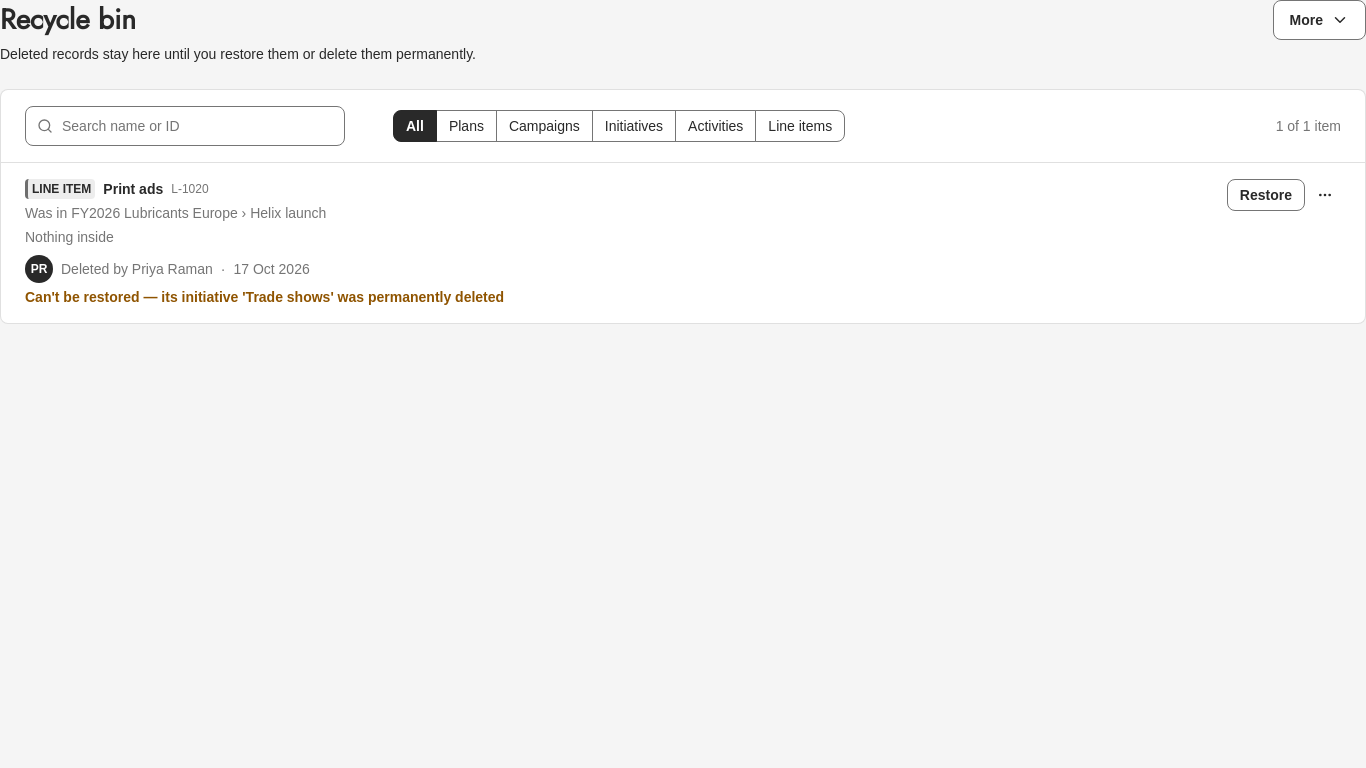
Test: RecycleBinPage › opens Delete permanently from a restore that cannot happen (FR-024)
Click the button with aria-label "Restore line item 'Print ads'" at [1266, 195], box [1227,179,1305,211]
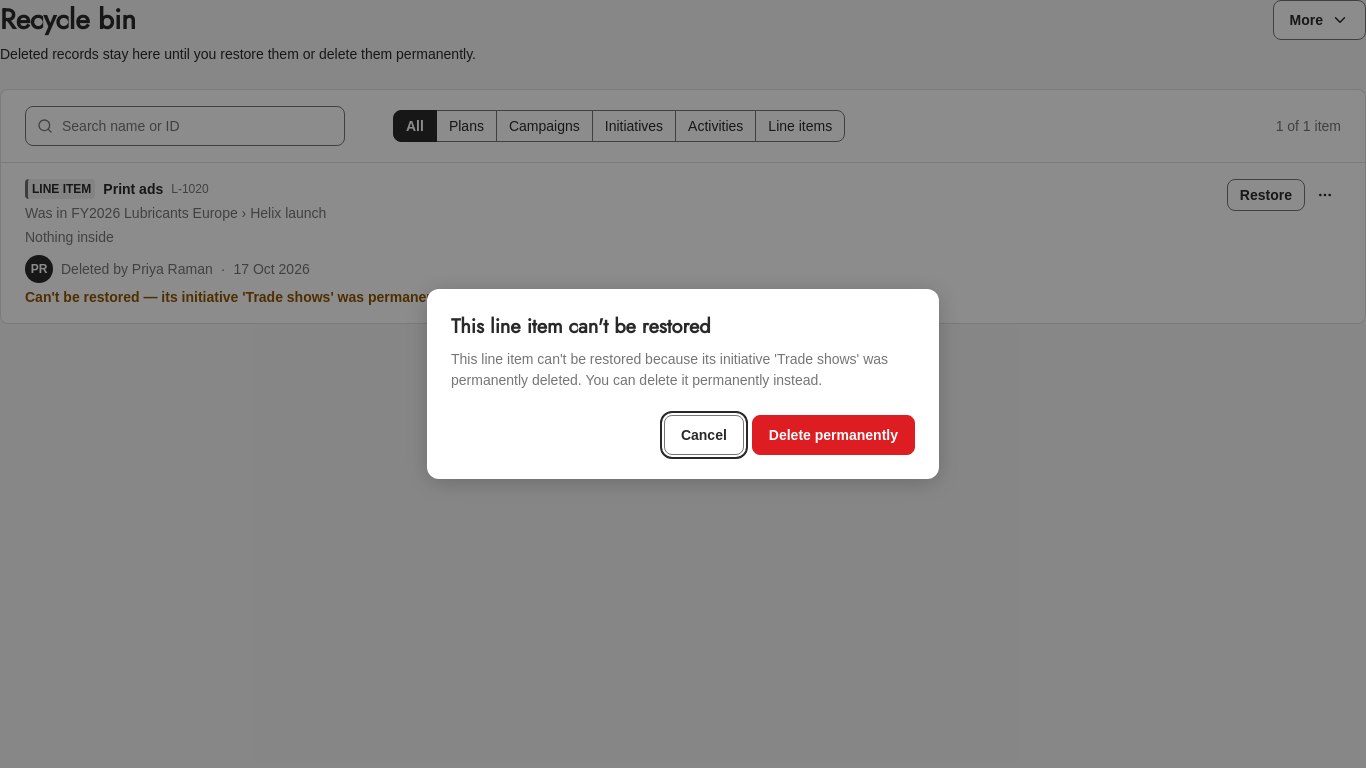
Click the button "Delete permanently" at [833, 435], box [752,415,915,455]
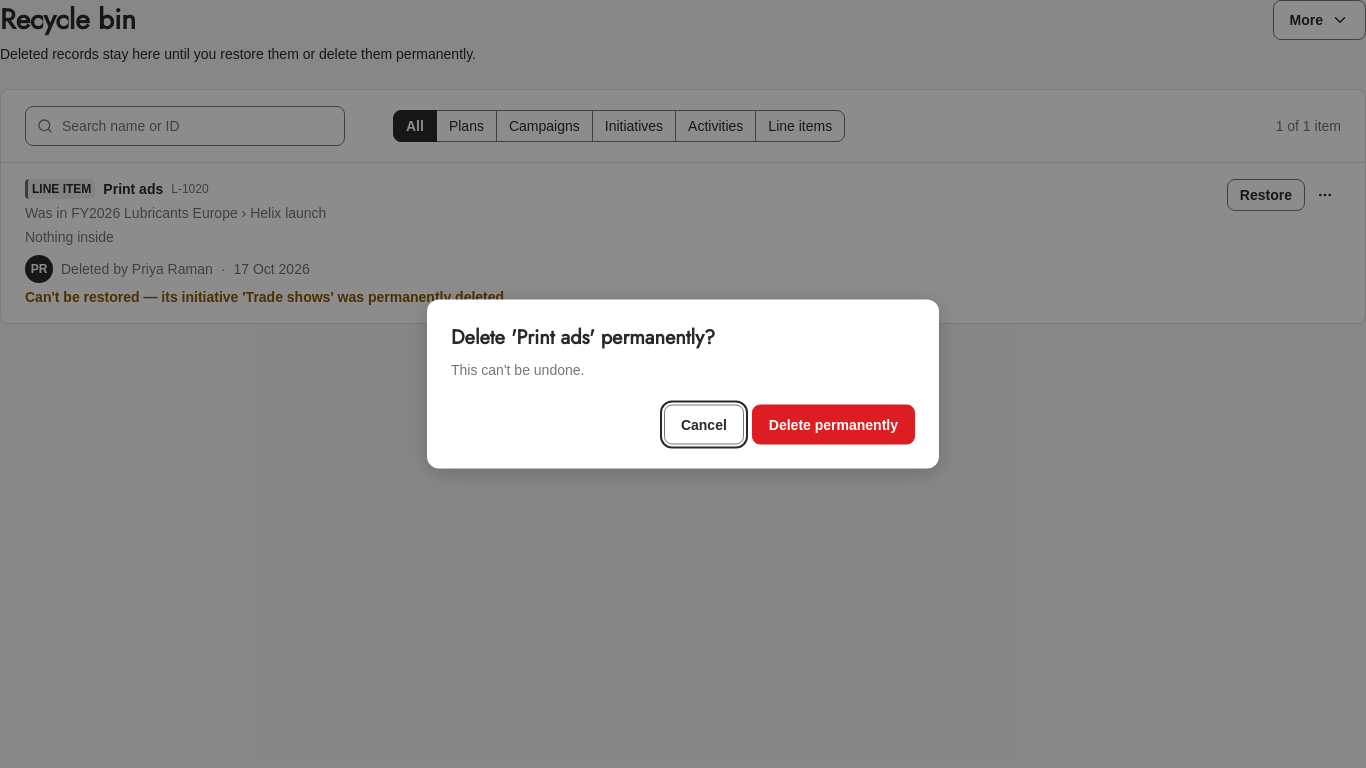
Result: the dialog "Delete 'Print ads' permanently?" is shown at [427,300,939,468]
